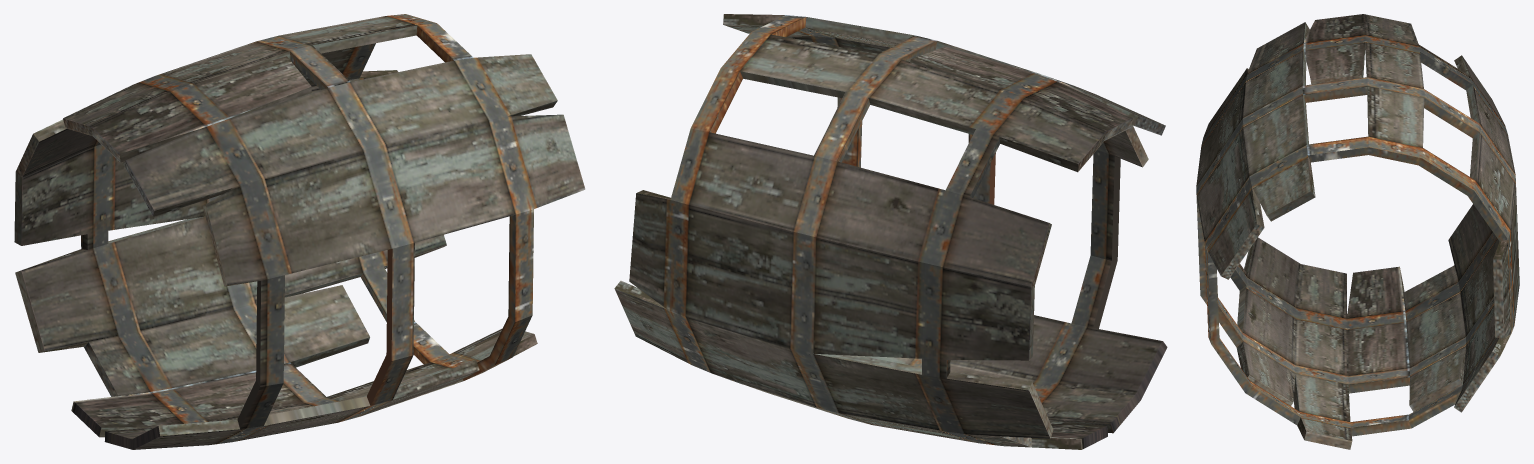
File: props_barrel_broken_lod00.fbx
3 renders of one model, left to right at view 1: azimuth 30°, elevation 25°; view 2: azimuth 150°, elevation 25°; view 3: azimuth 270°, elevation 25°, orthographic. The views are drawn at different scales.
Parts seen in each view (by area): view 1: props_barrel_broken_lod00; view 2: props_barrel_broken_lod00; view 3: props_barrel_broken_lod00.
Part boxes in pixels (x1,y1,x2,y2): props_barrel_broken_lod00: [14, 14, 585, 449]; props_barrel_broken_lod00: [614, 14, 1167, 449]; props_barrel_broken_lod00: [1196, 14, 1519, 449].
Bounding box in the file's own units: 113 × 92.25 × 88.4.
